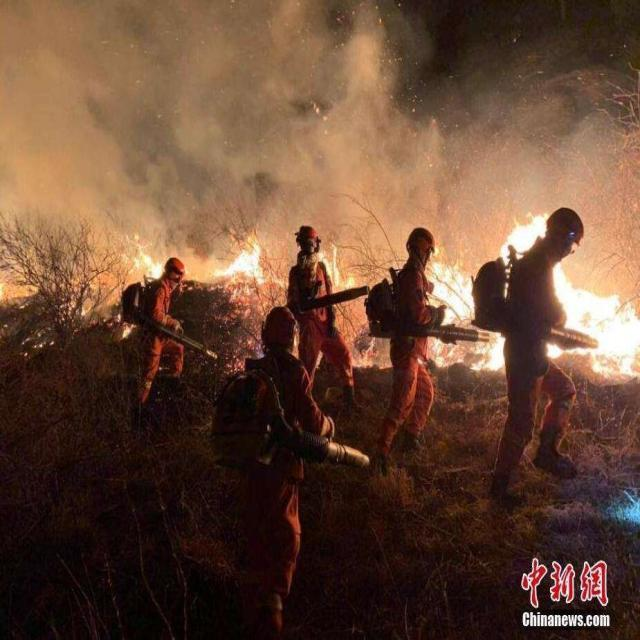Fire: (417, 210, 640, 380), (206, 234, 288, 378), (346, 316, 392, 370), (120, 231, 166, 280), (316, 242, 356, 293), (116, 312, 138, 339)
Smoke: (0, 1, 640, 300)
